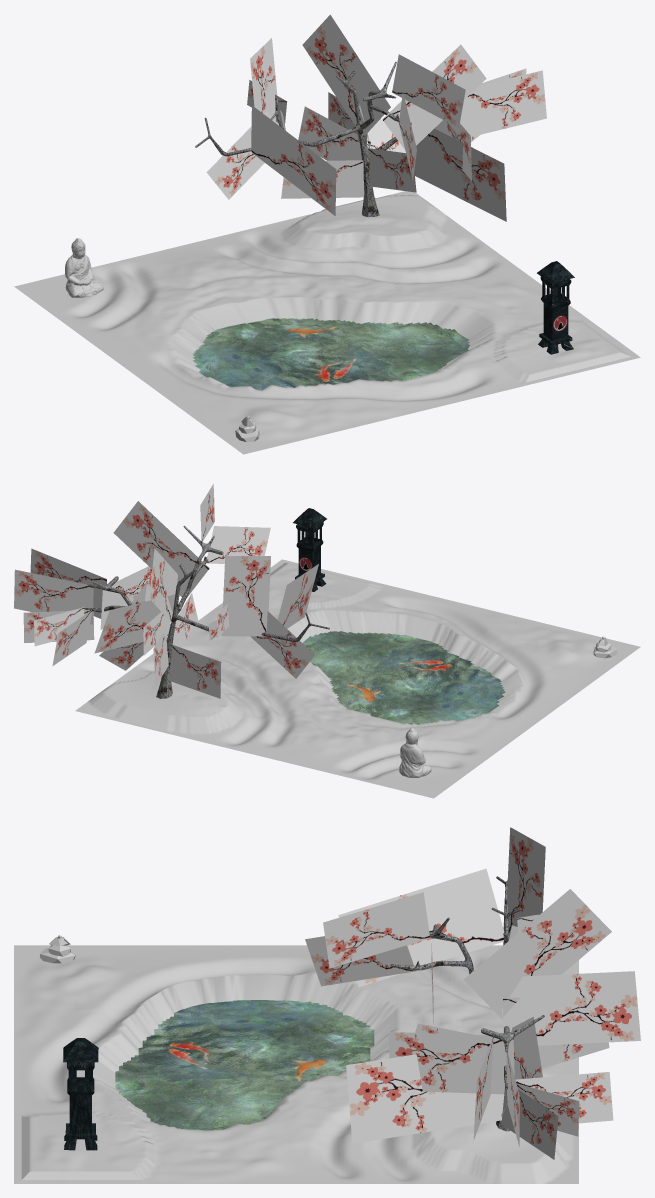
The picture shows the model from 3 angles, top to bottom: view 1: azimuth 30°, elevation 25°; view 2: azimuth 150°, elevation 25°; view 3: azimuth 270°, elevation 25°; orthographic projection. The views are drawn at different scales.
Visible parts, largest first — view 1: Landscape_0; view 2: Landscape_0; view 3: Landscape_0.
Part boxes in pixels (box(x1,y1,x2,y2)): Landscape_0: box(14, 14, 640, 454); Landscape_0: box(14, 484, 640, 798); Landscape_0: box(14, 827, 640, 1183).
Bounding box in the file's own units: 7.83 × 3.26 × 7.04.
